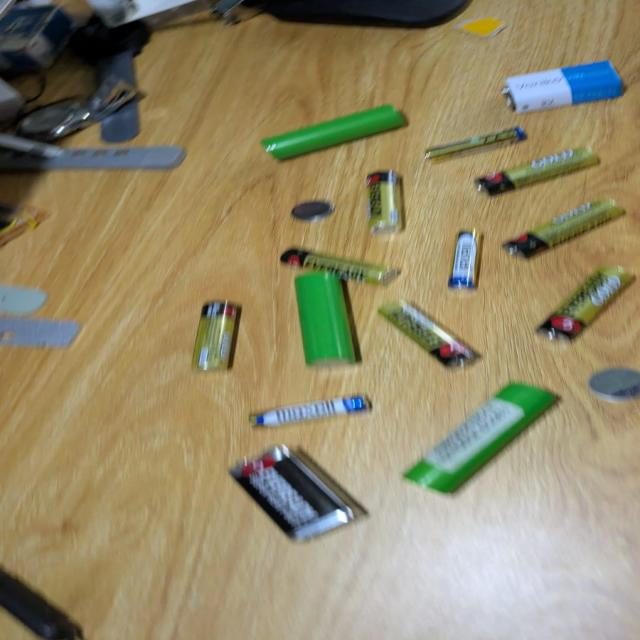9V: (230, 445, 361, 541), (500, 60, 626, 113)
AA: (531, 264, 637, 343), (376, 298, 481, 368), (503, 199, 626, 258), (474, 145, 602, 196), (278, 247, 401, 285), (191, 301, 241, 371), (365, 171, 404, 235)
AAA: (243, 393, 374, 428), (421, 127, 526, 161), (447, 230, 481, 290)
COIN: (583, 366, 640, 404), (289, 201, 335, 222)
